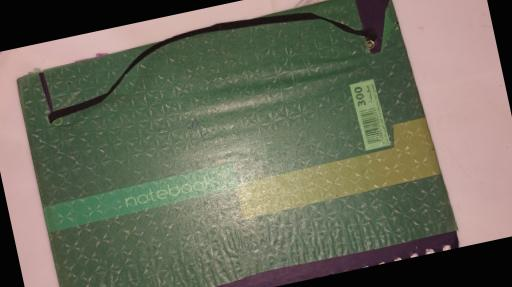notebook: (11, 0, 458, 287)
